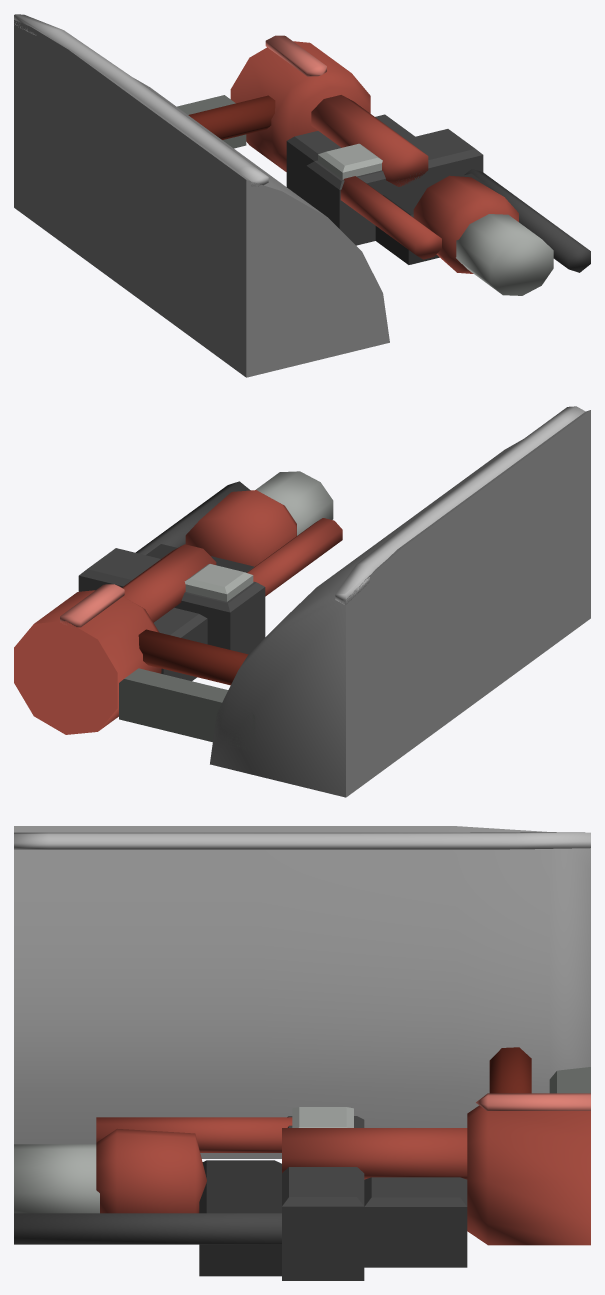
File: newshi-83.glb
3 views of the same model, one above another, from view 1: azimuth 30°, elevation 25°; view 2: azimuth 150°, elevation 25°; view 3: azimuth 270°, elevation 25° (orthographic). The views are drawn at different scales.
Visible parts, largest first — view 1: newshi-83; view 2: newshi-83; view 3: newshi-83.
Boxes of the visible parts, bbox=[...] form: newshi-83: bbox=[14, 14, 590, 377]; newshi-83: bbox=[14, 406, 590, 797]; newshi-83: bbox=[14, 826, 590, 1280].
Size of the model in its own units: 2 by 1.13 by 2.33.
